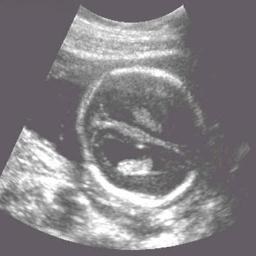abnormal: (74, 66, 212, 212)
